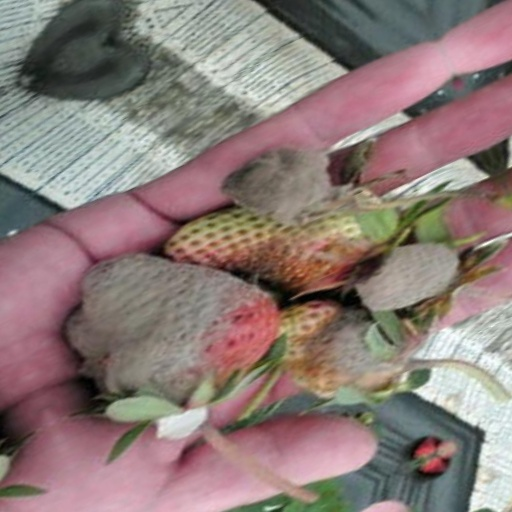Gray Mold: (47, 147, 257, 319), (204, 192, 359, 279), (240, 88, 387, 179), (250, 269, 367, 349), (331, 143, 441, 205)
